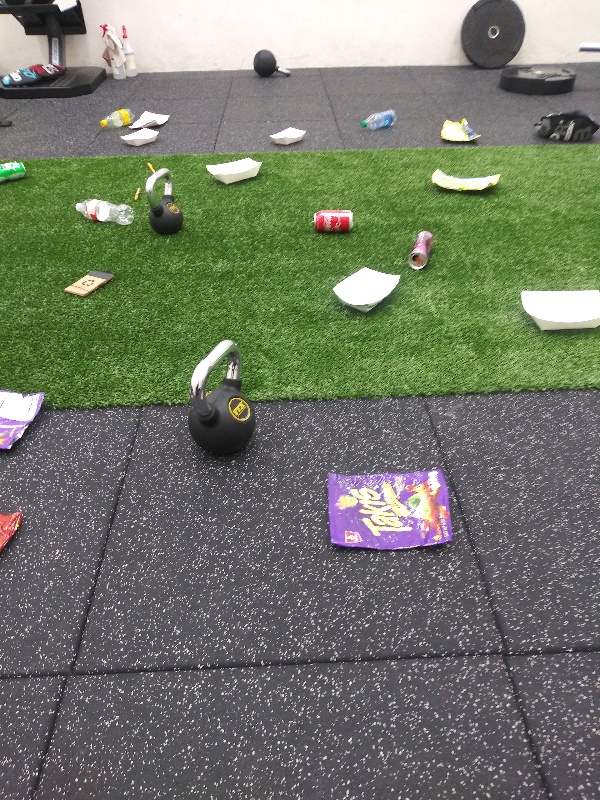bag: (322, 466, 457, 554), (1, 387, 50, 457), (429, 165, 506, 195), (1, 505, 29, 561), (437, 114, 485, 143), (127, 109, 172, 130)
bottle: (72, 197, 135, 227), (96, 103, 138, 130), (357, 107, 400, 133)
can: (308, 206, 357, 237), (406, 227, 437, 273), (1, 158, 32, 186)
plate: (519, 285, 600, 335), (329, 265, 405, 316), (203, 156, 264, 187), (268, 123, 310, 149), (118, 128, 163, 148)
